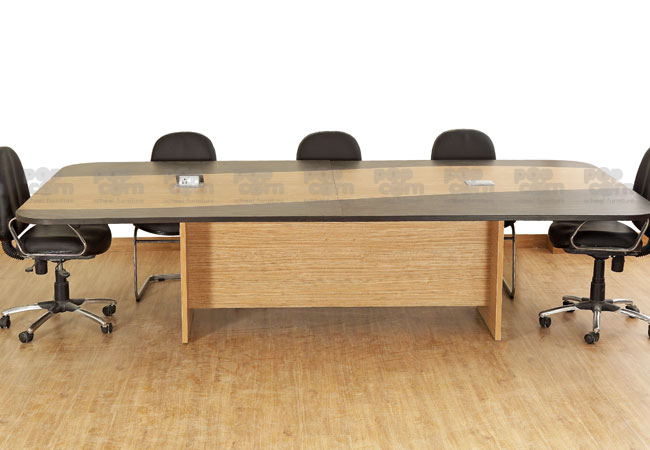conference_table: (18, 159, 650, 343)
